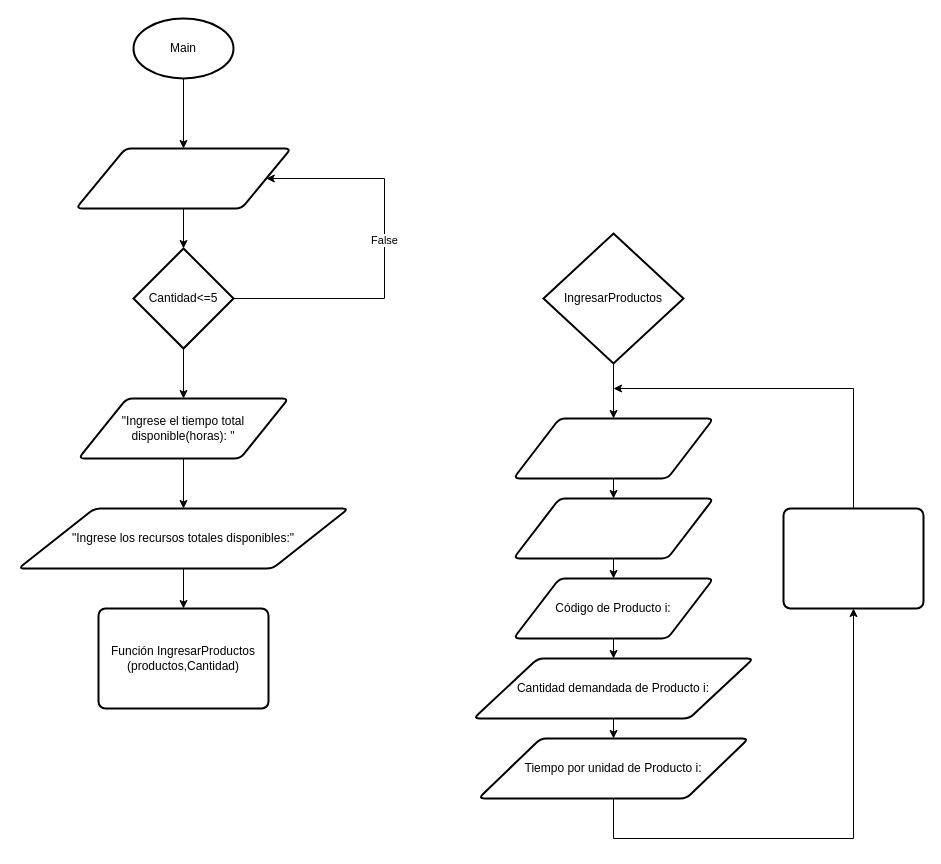
The diagram is 941 pixels wide and 864 high, and some of its shapes have lost their labels. Here are the shapes that lost their labels. From the top down, the box of each, then its label:
(74, 147, 292, 209): "Ingrese la cantidad de productos(máximo 5)"
(512, 417, 714, 479): Nombre de Producto i:
(512, 497, 714, 559): Precio de Producto i:
(782, 507, 924, 609): for(i=0;i<Cantidad;i++)
